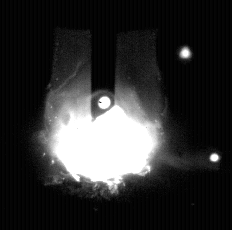arame: (91, 0, 117, 121)
poca: (44, 0, 164, 230)
